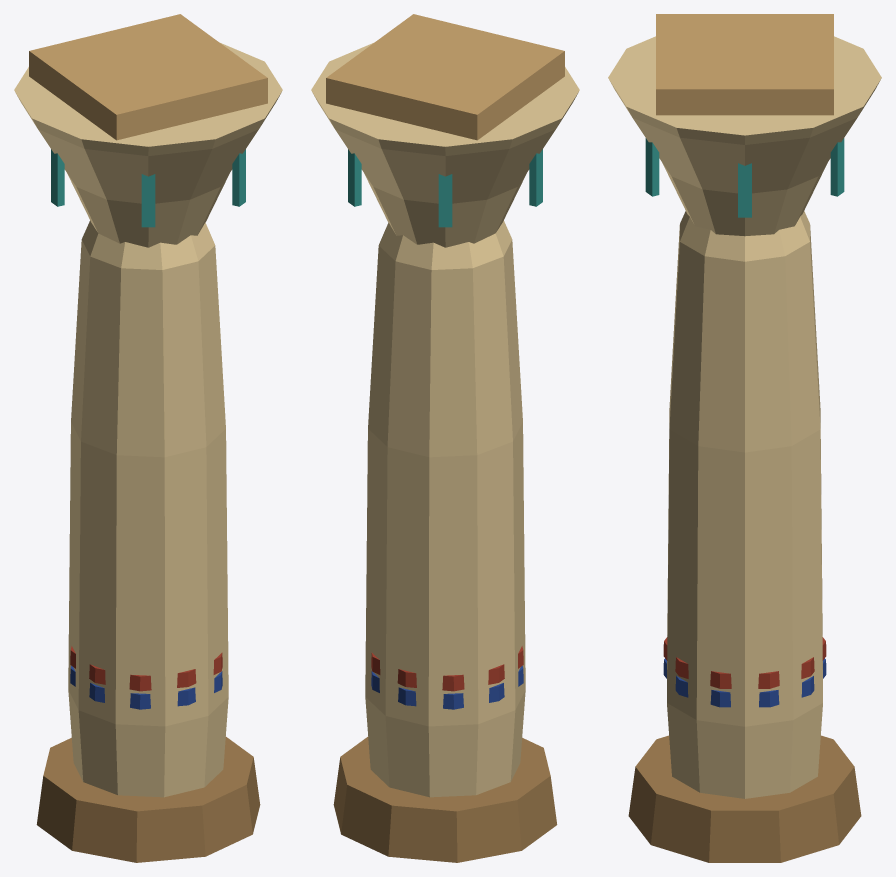
The model's file is desert_column.glb.
The picture shows the model from 3 angles, left to right: view 1: azimuth 30°, elevation 25°; view 2: azimuth 150°, elevation 25°; view 3: azimuth 270°, elevation 25°; orthographic projection.
Visible parts, largest first — view 1: desert_column; view 2: desert_column; view 3: desert_column.
Part boxes in pixels (x1,y1,x2,y2): desert_column: [14, 14, 282, 862]; desert_column: [311, 14, 579, 862]; desert_column: [608, 14, 881, 862].
Size of the model in its own units: 2 by 6.16 by 2.
